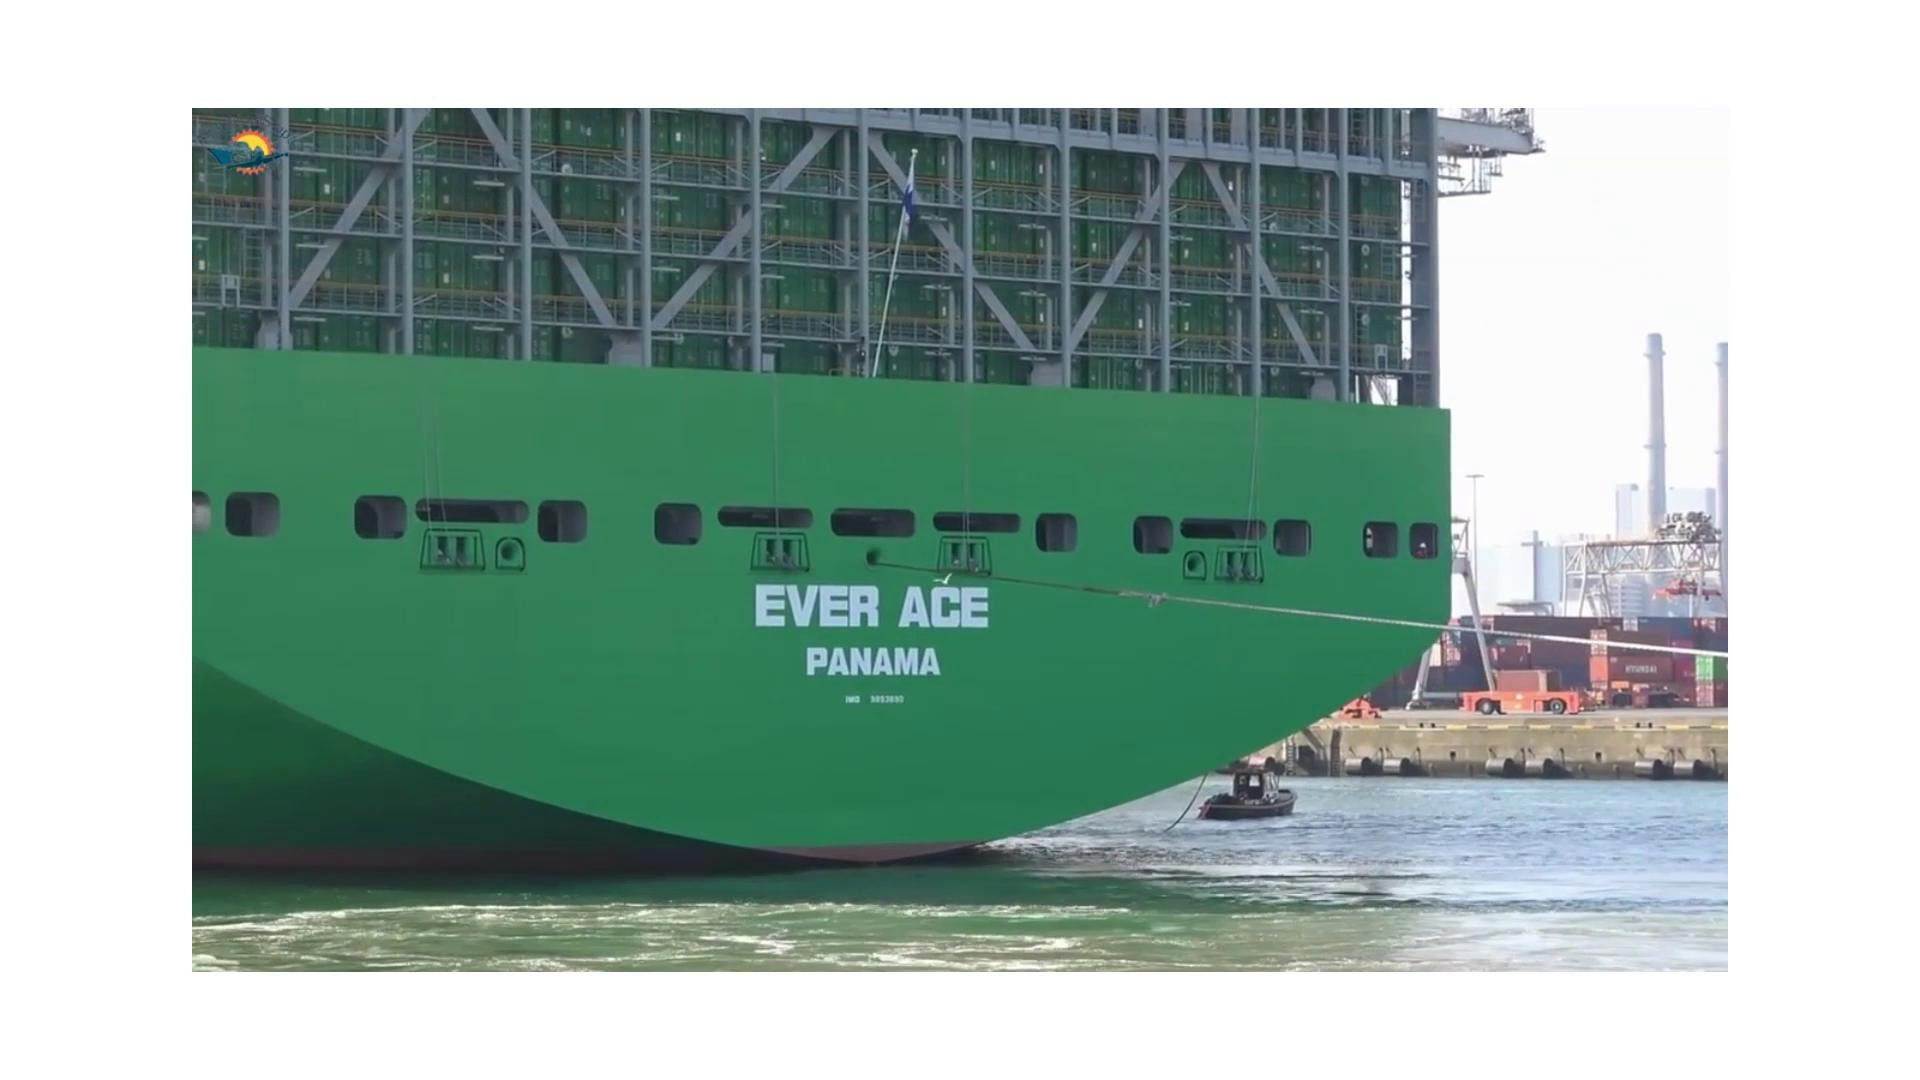OCR: (736, 551, 1005, 705)
